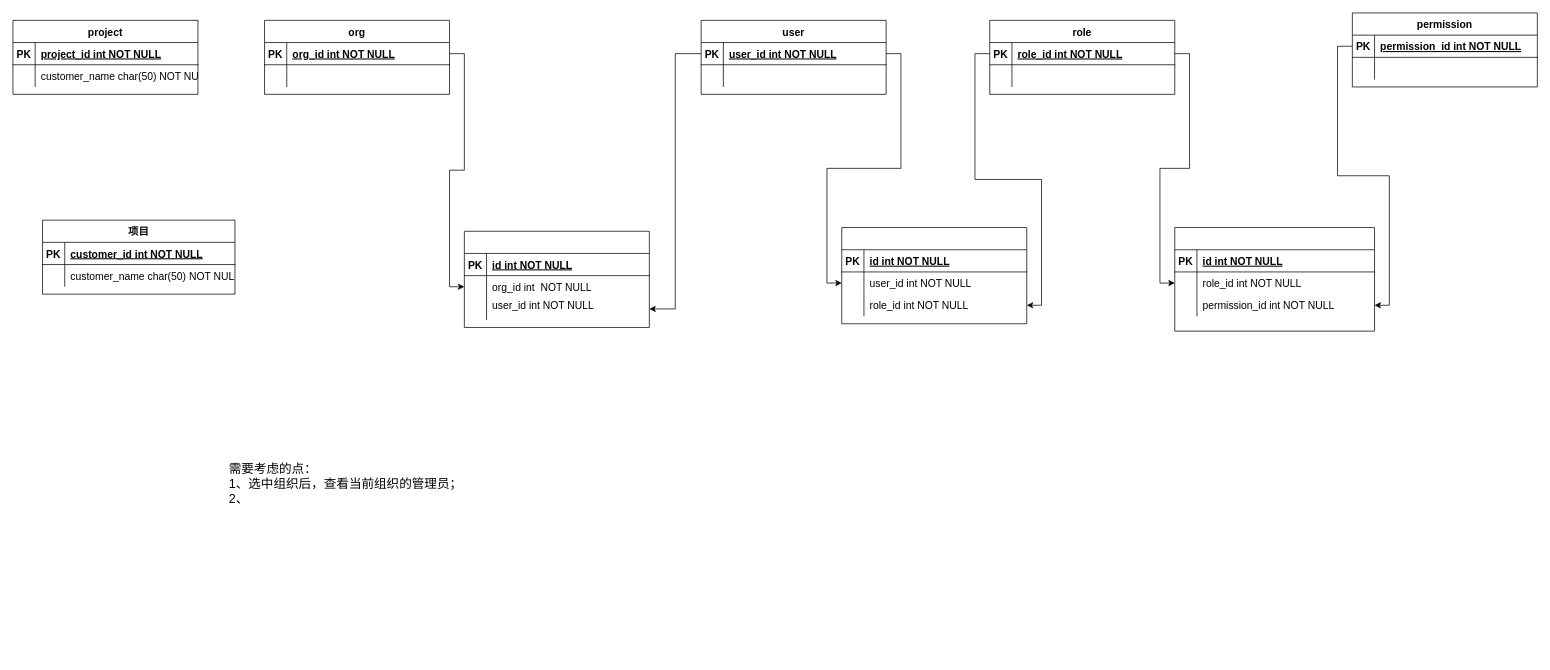
Image size: 1550x670. Some labels were removed from this diagram. Each missing label, with the box of its shape:
org_and_user: (464, 231, 649, 327)
role_and_permission: (1174, 227, 1375, 331)
user_and_role: (841, 227, 1027, 324)
